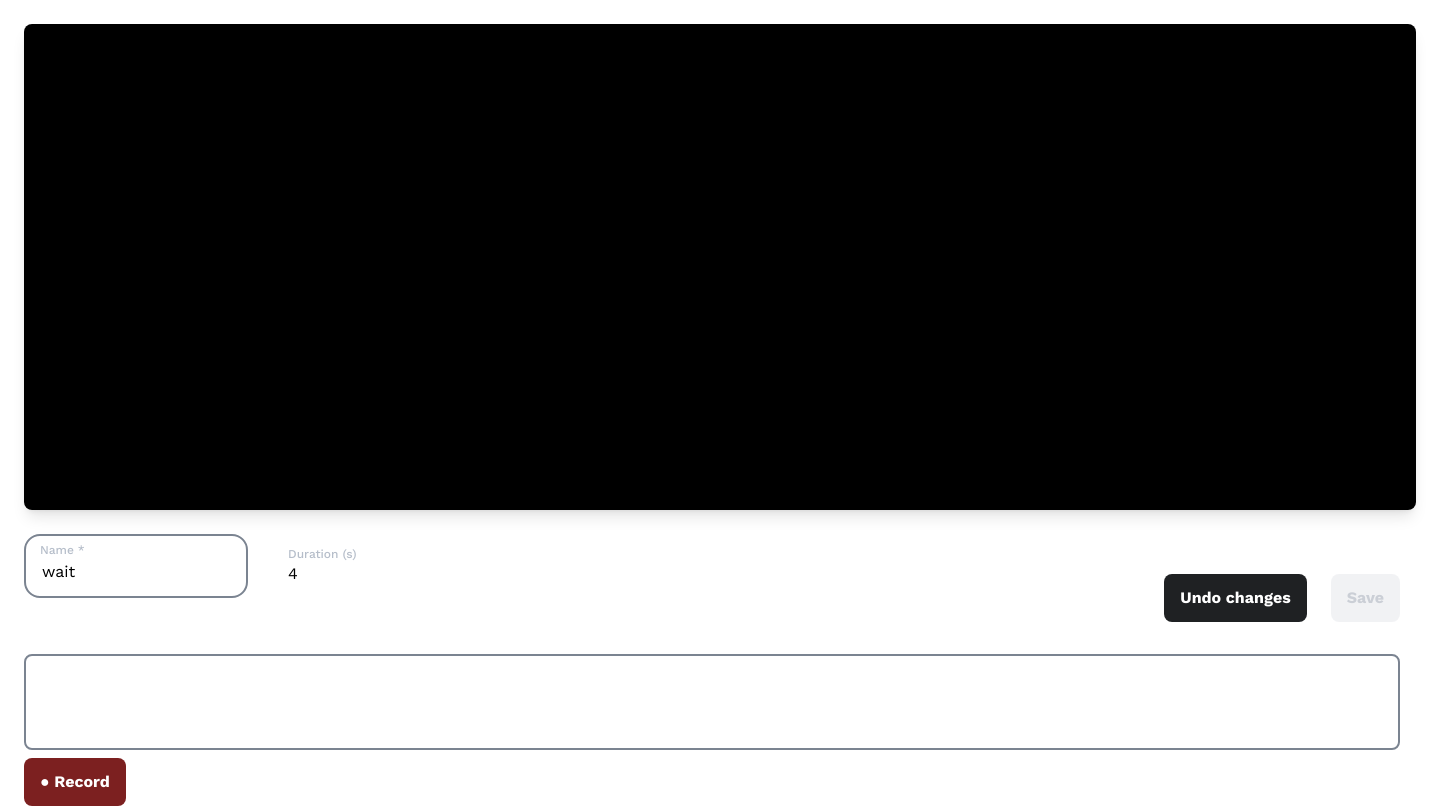
<EditorWorkspace /> › undoes changes when "Undo changes" is clicked
Replace the text in the field labelled "Name *" with "Temporary" at (136, 566), box x1=24 y1=534 x2=248 y2=598
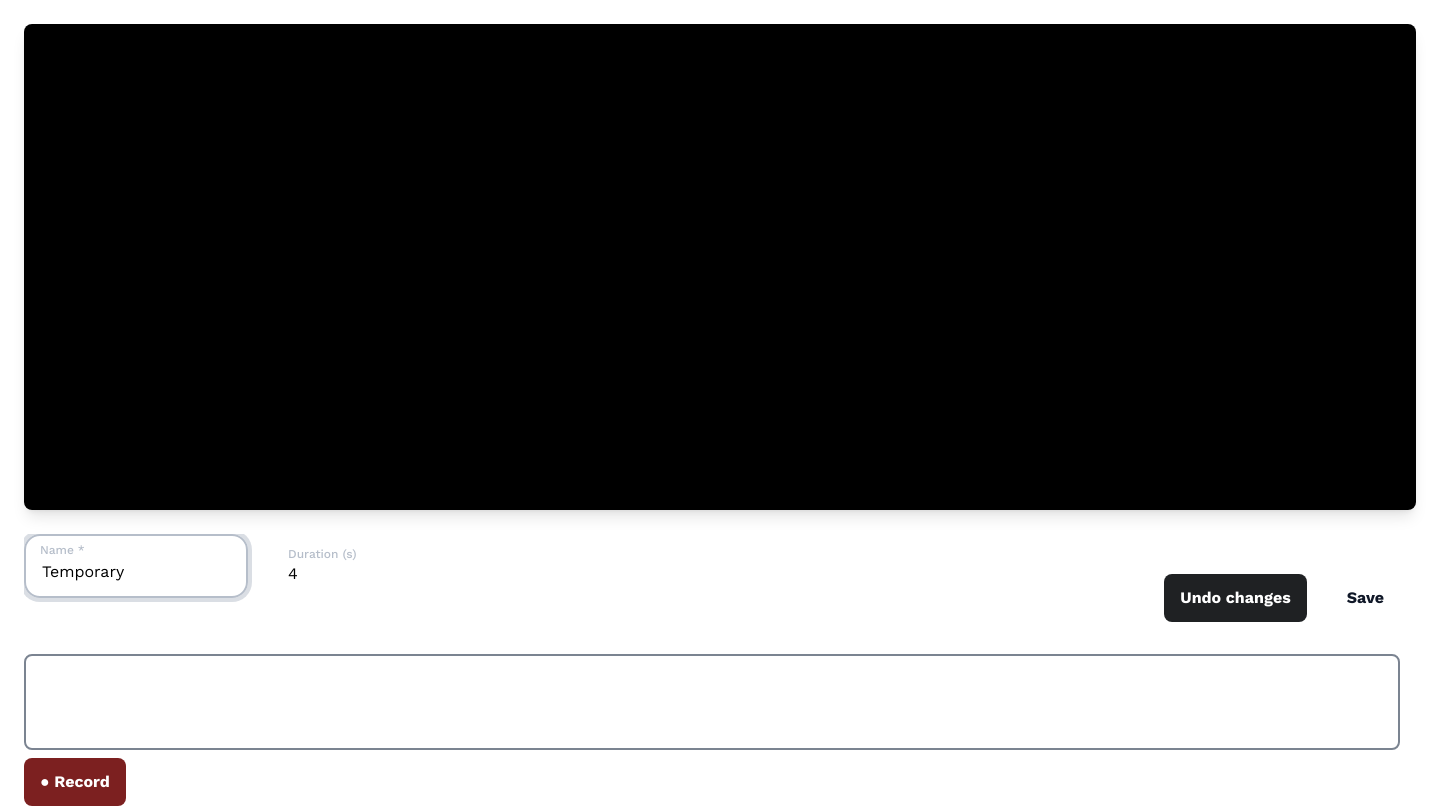
Click the button "Undo changes".
click(1236, 598)  # box x1=1164 y1=574 x2=1307 y2=622
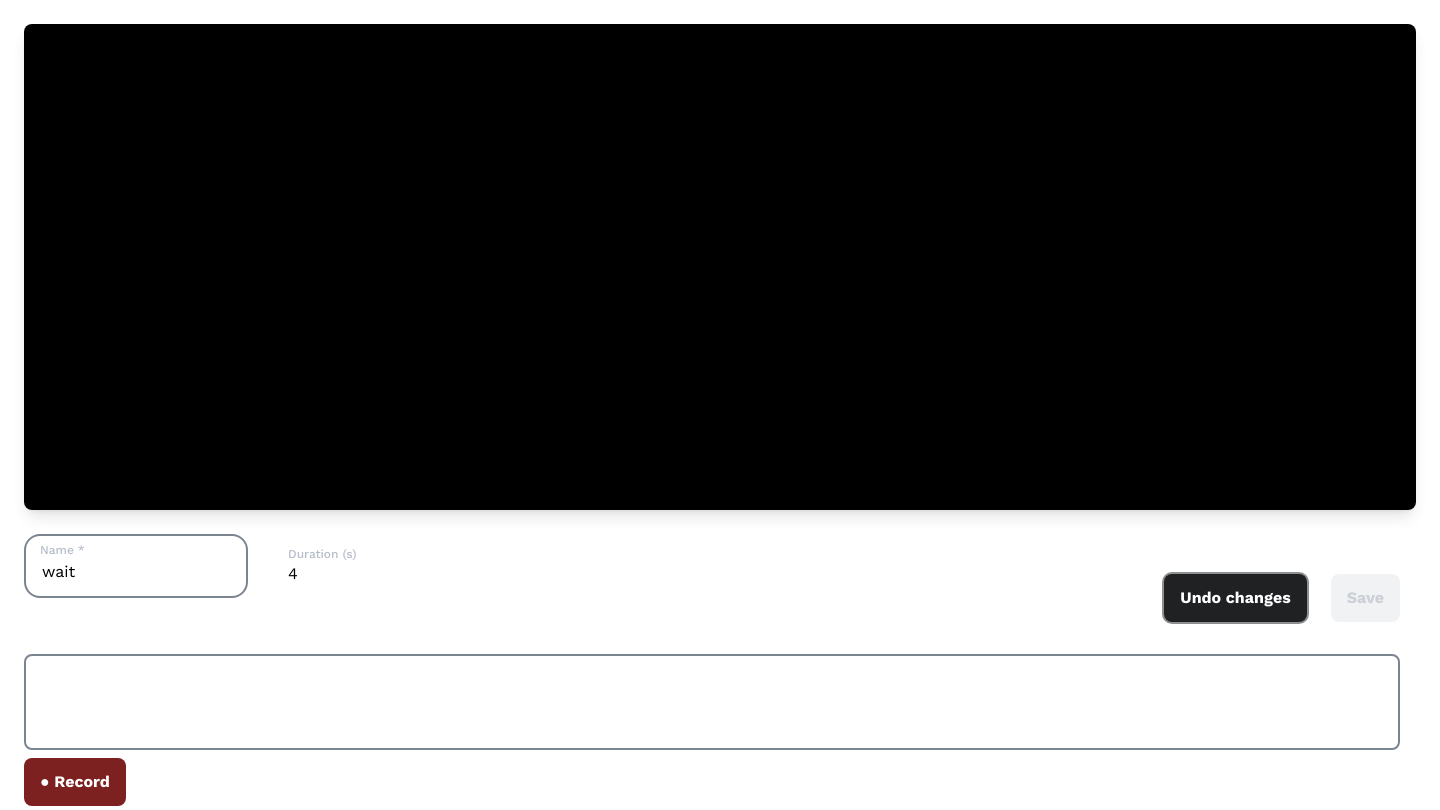
Expected: the field labelled "Name *" holds "wait", x1=24 y1=534 x2=248 y2=598
